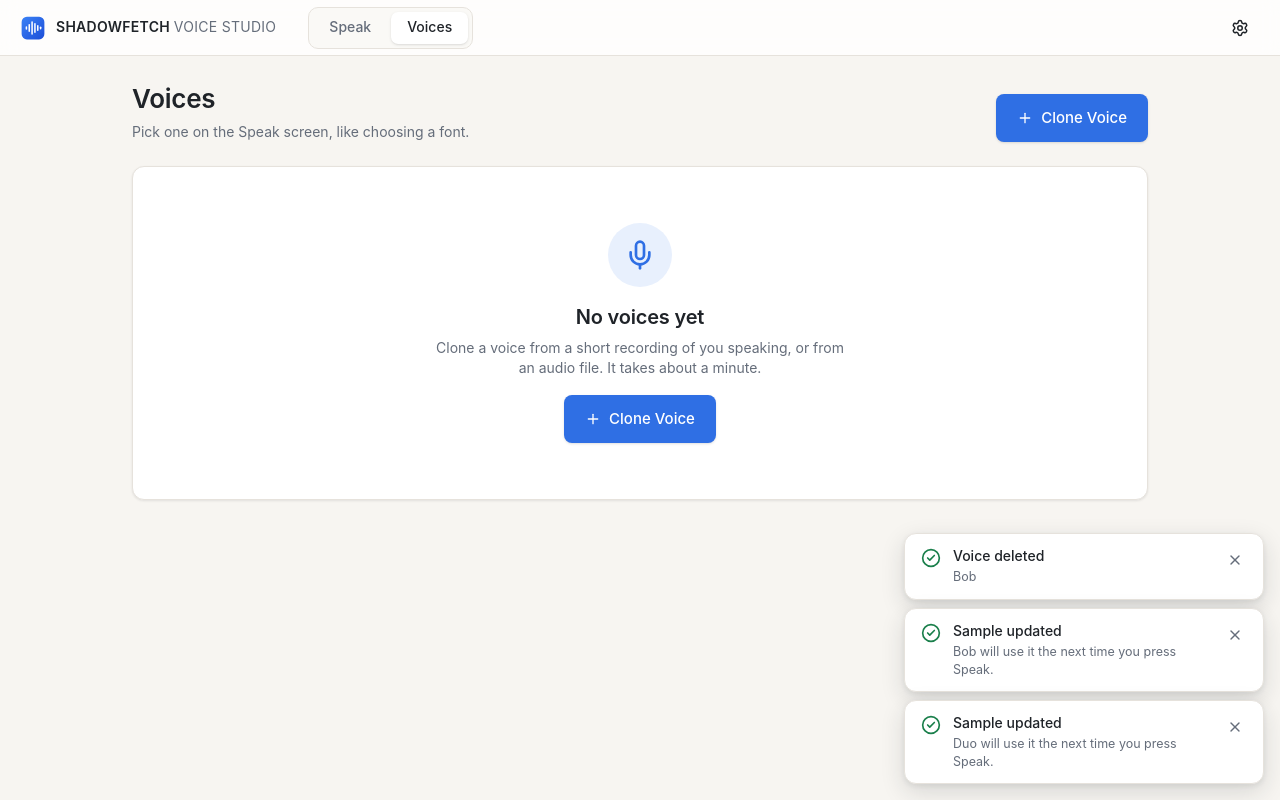
Test: Voices screen › empty state invites cloning the first voice
The width and height of the screenshot is (1280, 800).
Expected: the heading "Voices" is shown, top-left (132, 83), bottom-right (215, 114)
Expected: the heading "No voices yet" is shown, top-left (576, 305), bottom-right (704, 329)
Click the button "Clone Voice" below "No voices yet" at (640, 419), box top-left (564, 395), bottom-right (716, 443)
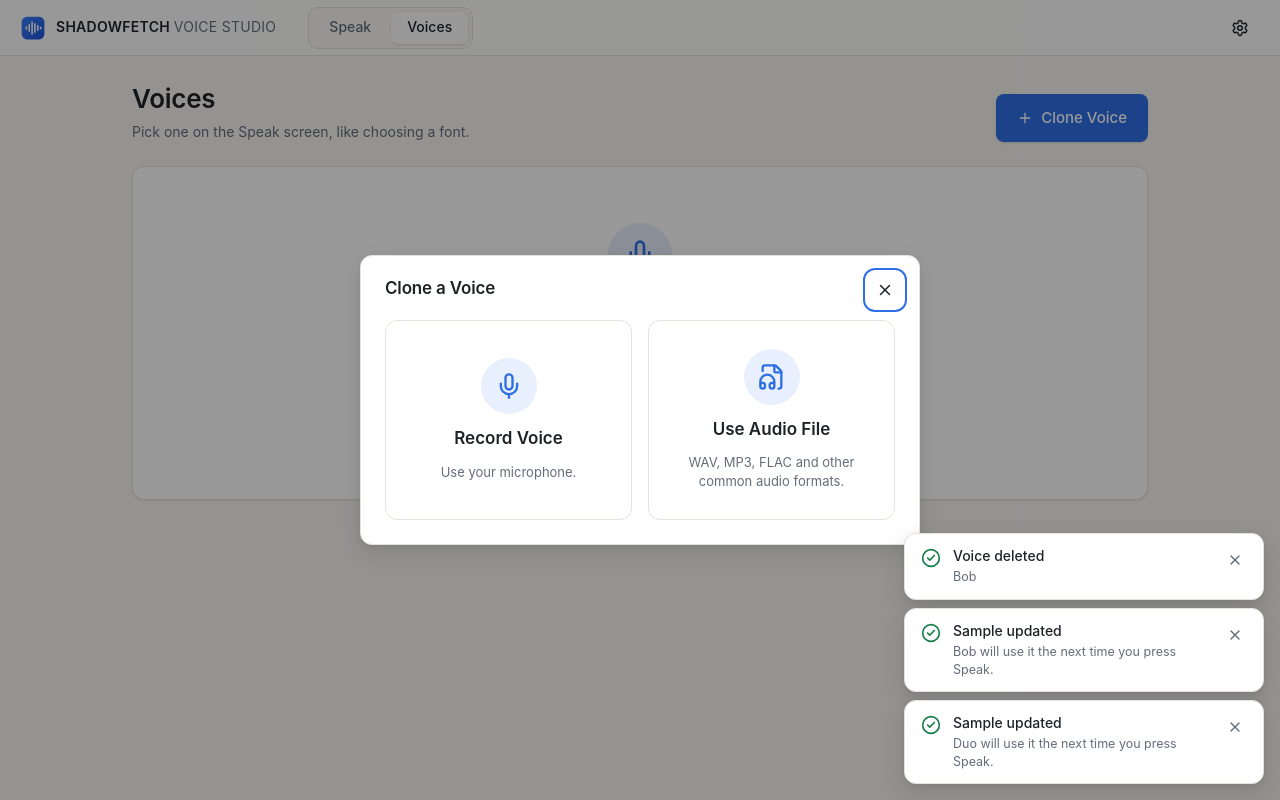
Expected: the dialog "Clone a Voice" is shown, top-left (360, 255), bottom-right (920, 545)
